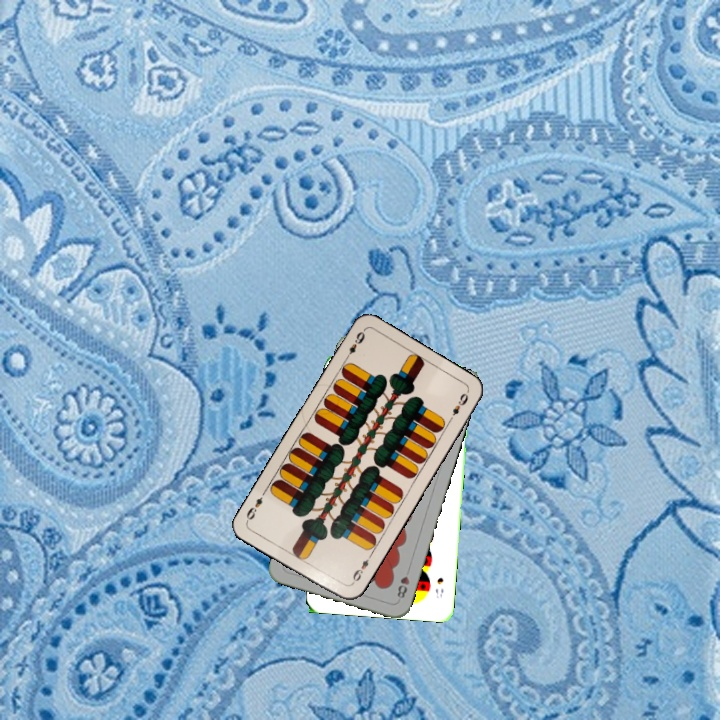E9: (341, 326, 368, 363), (347, 551, 374, 587)
H8: (393, 572, 412, 601)
S8: (431, 574, 446, 600)
